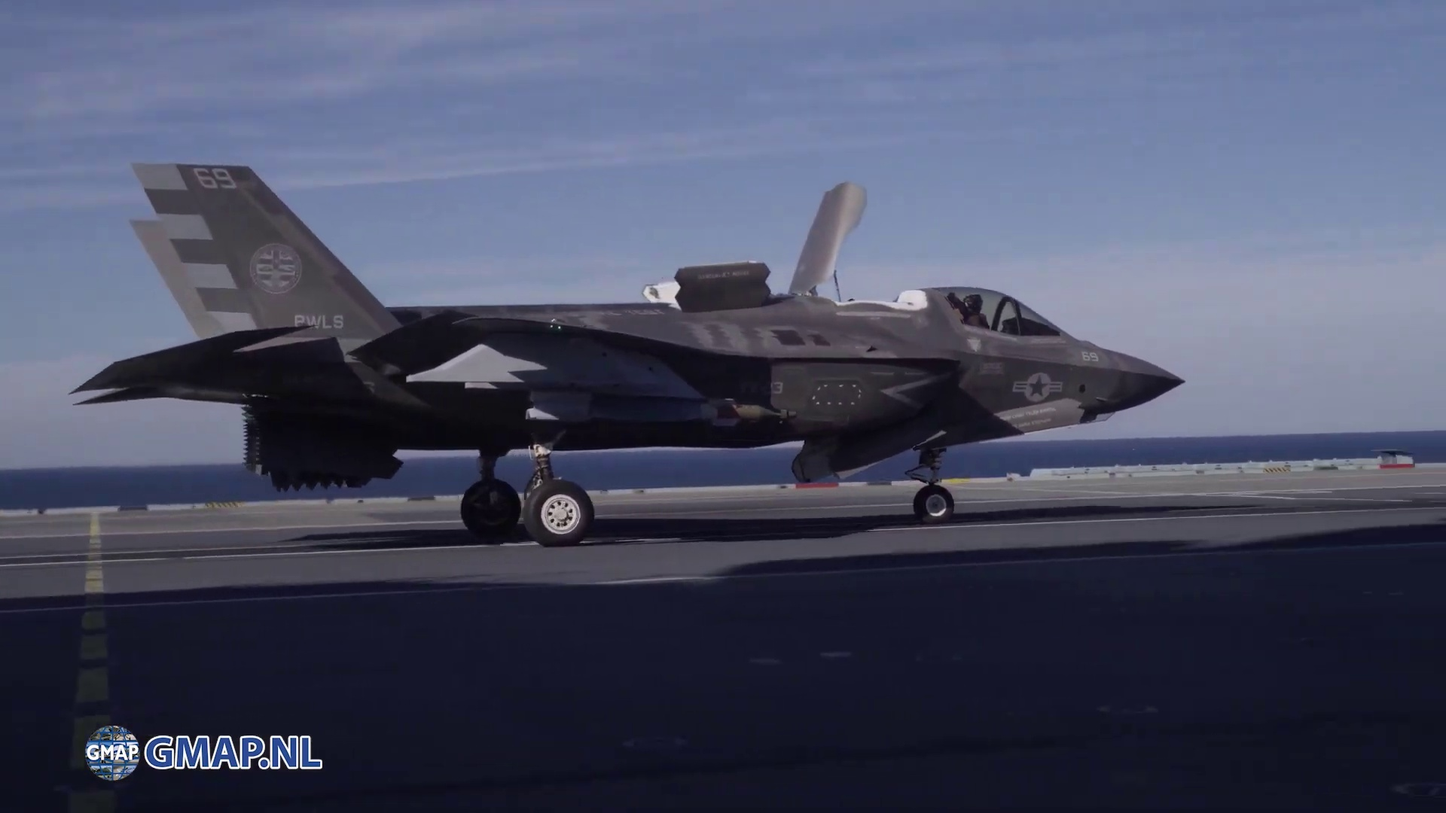F35: (63, 157, 1195, 550)
